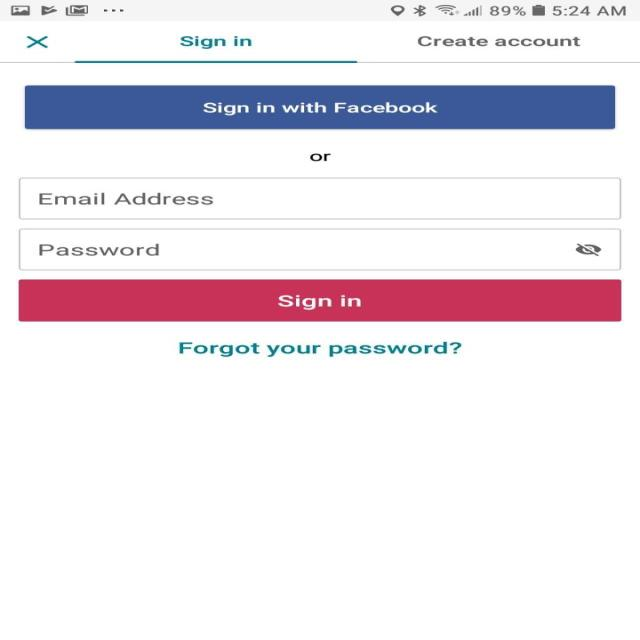EditText: (18, 228, 620, 270), (18, 177, 620, 219)
Icon: (574, 243, 601, 256), (27, 36, 49, 49)
Text: (178, 341, 462, 357), (39, 192, 213, 205), (417, 36, 580, 46), (39, 243, 159, 256), (180, 35, 252, 49), (309, 153, 331, 161)
TextButton: (24, 85, 614, 129), (18, 279, 620, 322)
